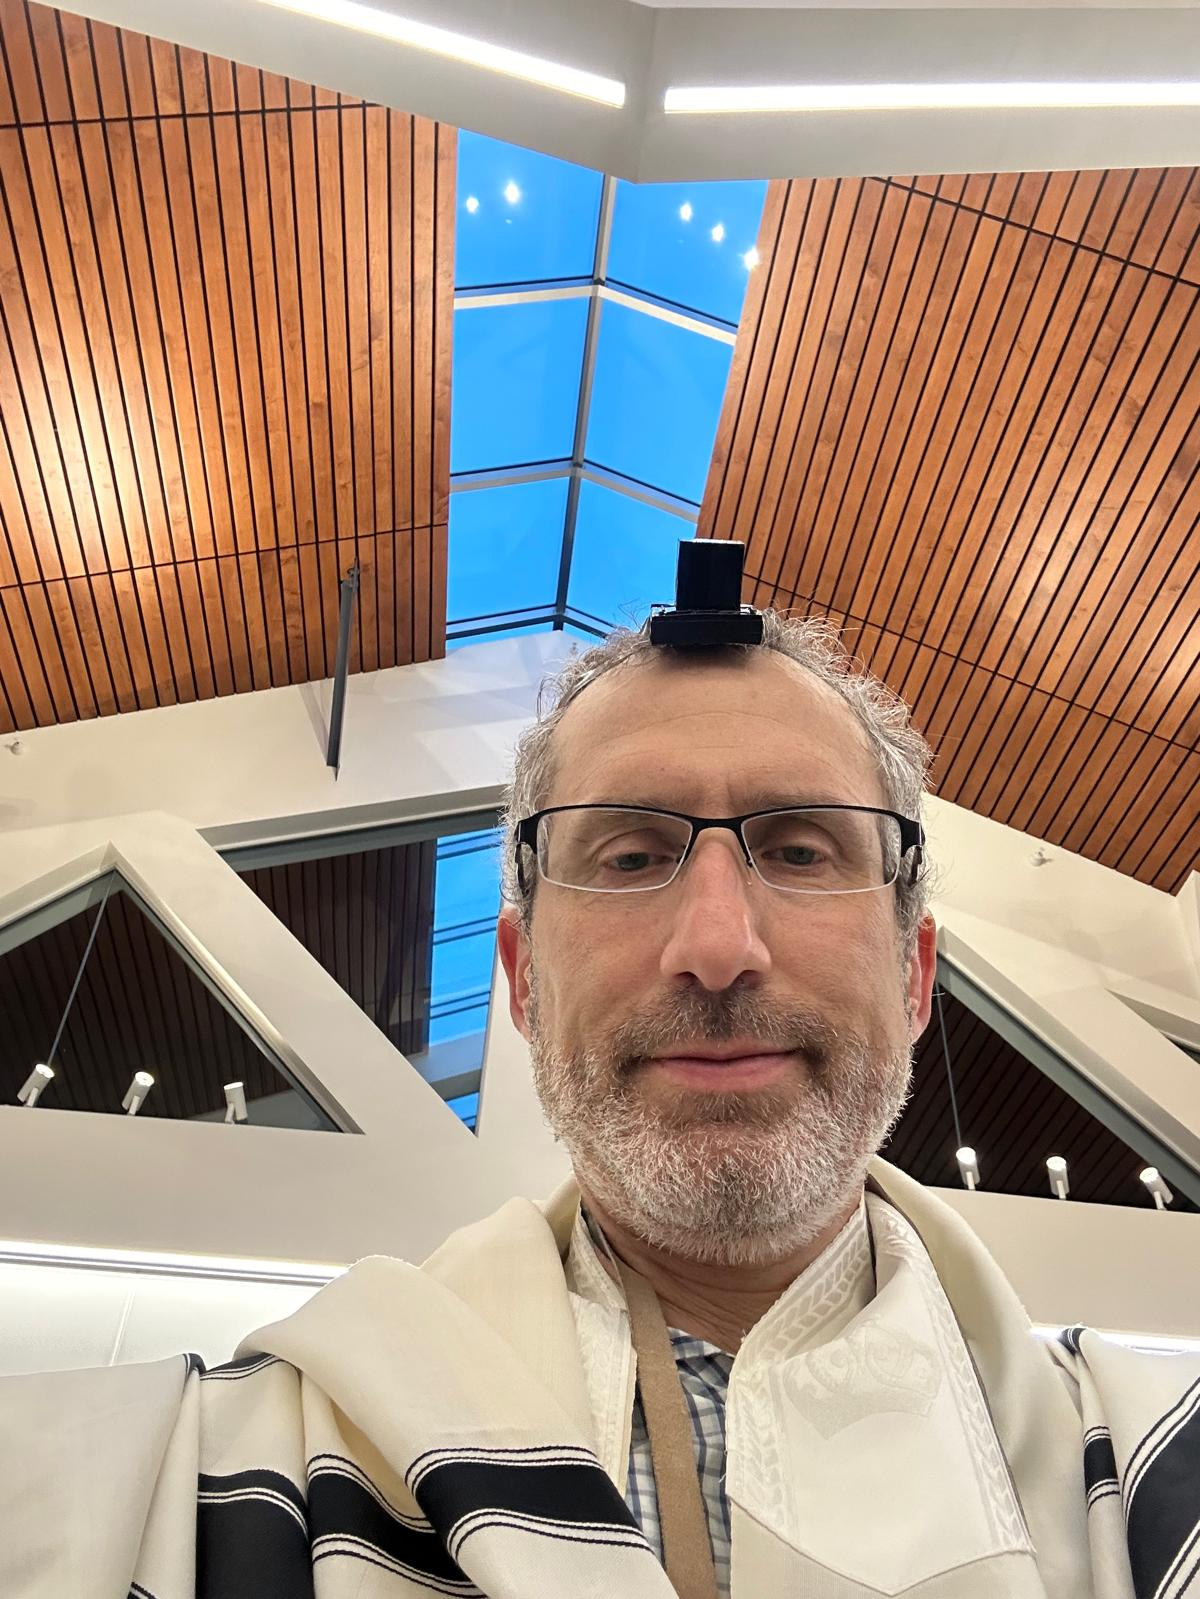tefillin: (653, 540, 763, 644)
